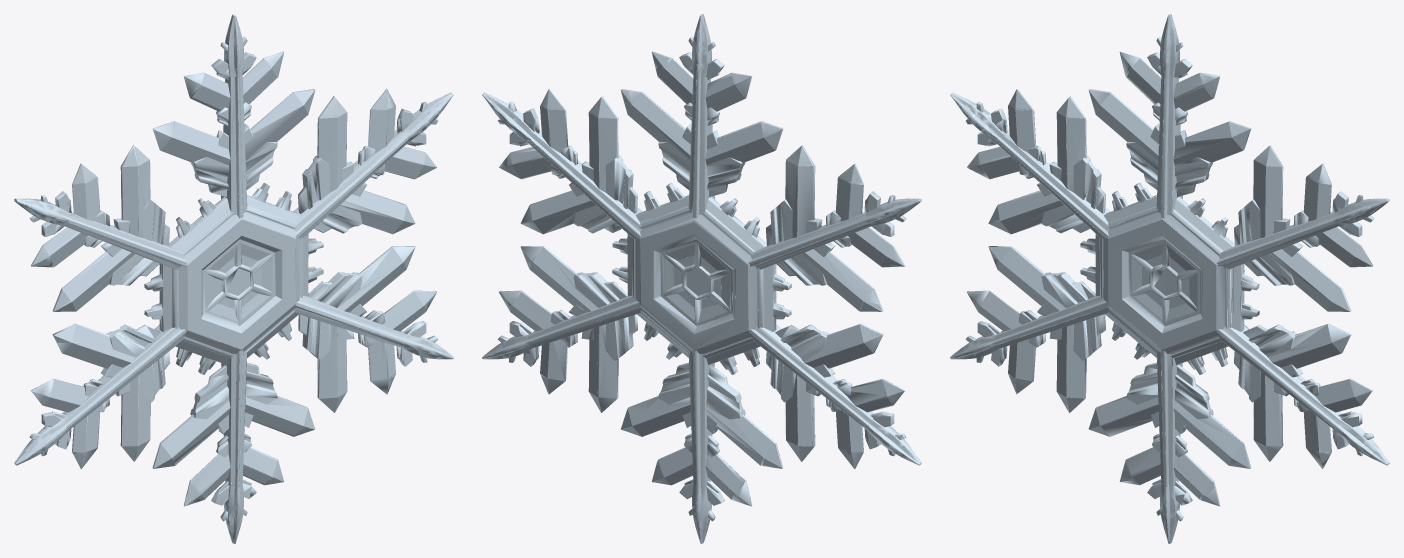
The model's file is snowflake2.glb.
3 views of the same model, side by side, from view 1: azimuth 30°, elevation 25°; view 2: azimuth 150°, elevation 25°; view 3: azimuth 330°, elevation 25° (orthographic).
Visible parts, largest first — view 1: Snowflake; view 2: Snowflake; view 3: Snowflake.
Part boxes in pixels (x1=…): Snowflake: x1=14, y1=14, x2=453, y2=543; Snowflake: x1=482, y1=14, x2=921, y2=543; Snowflake: x1=950, y1=14, x2=1389, y2=543.
Bounding box in the file's own units: 7.09 × 8.16 × 0.4331.
